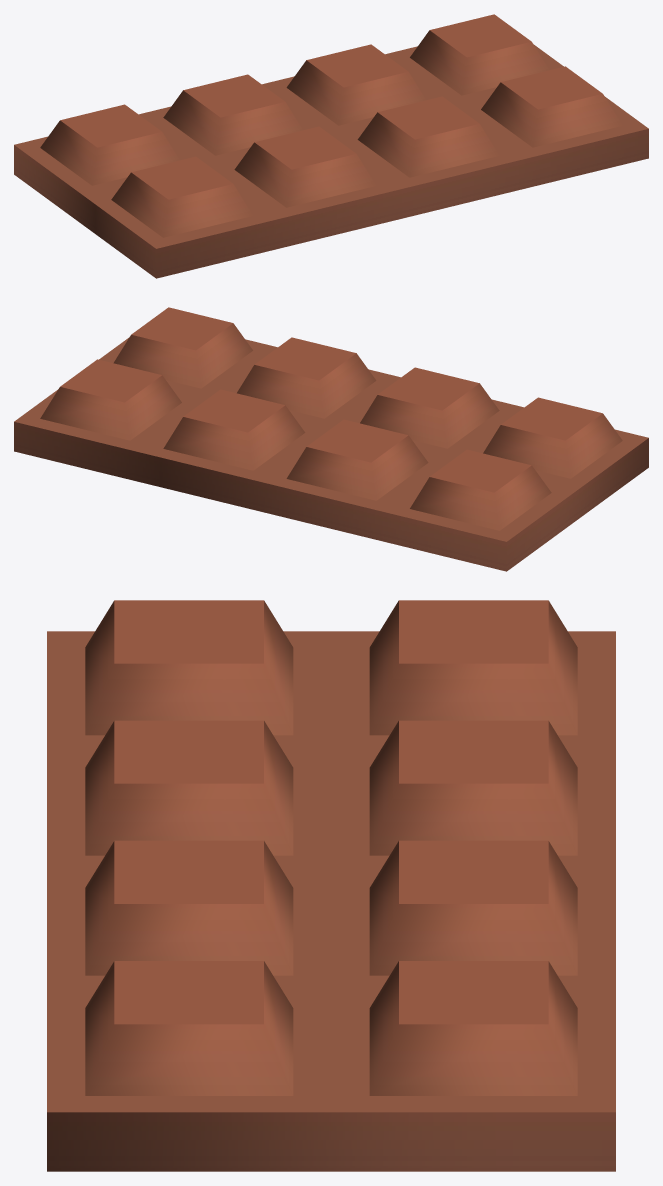
Rendered from food-chocolate.glb.
The picture shows the model from 3 angles, top to bottom: view 1: azimuth 30°, elevation 25°; view 2: azimuth 150°, elevation 25°; view 3: azimuth 270°, elevation 25°; orthographic projection. The views are drawn at different scales.
Visible parts, largest first — view 1: chocolate; view 2: chocolate; view 3: chocolate.
Part boxes in pixels (bbox=[...]): chocolate: bbox=[14, 14, 648, 278]; chocolate: bbox=[14, 307, 648, 571]; chocolate: bbox=[47, 600, 615, 1171].
Bounding box in the file's own units: 0.2924 × 0.0337 × 0.1462.
1 material, 1 textured.
